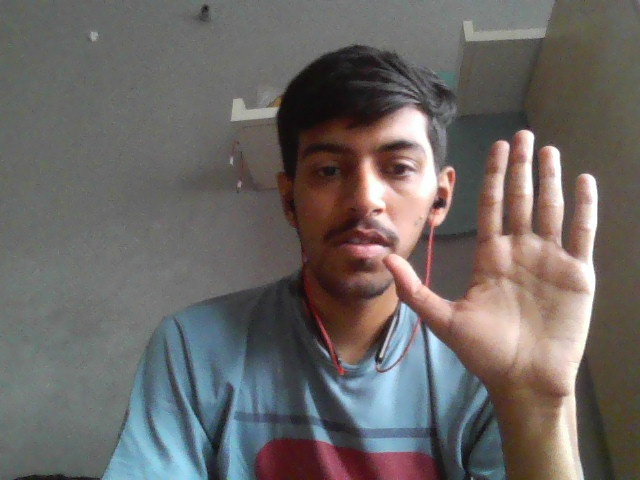Hello: (381, 127, 603, 395)
